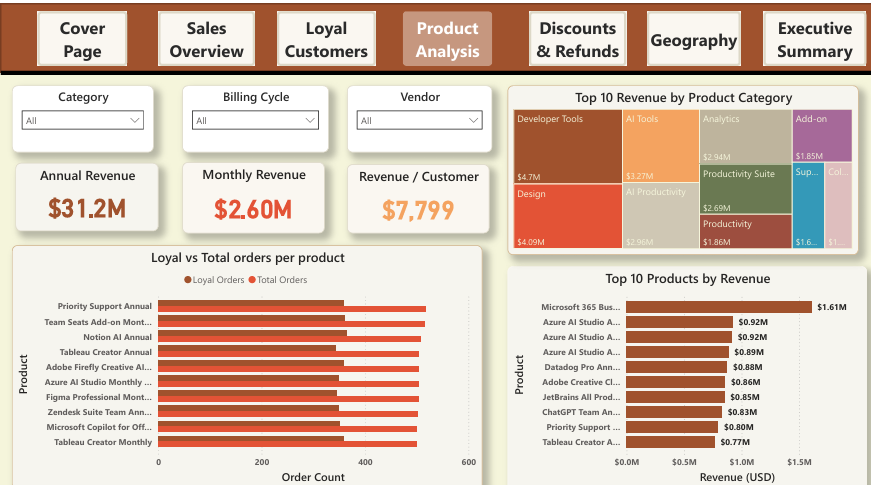

The dashboard page shown, as its layout file describes it:
{"tool":"powerbi","page":{"name":"Product Analysis","canvas":[1280,720],"ordinal":3},"visuals":[{"type":"shape","box":[0,0,1280,98.6],"z":0},{"type":"actionButton","title":"Sales Overview","box":[52.9,11.4,128.6,77.1],"z":1000},{"type":"actionButton","title":"Sales Overview","box":[395.7,11.4,141.4,77.1],"z":2000},{"type":"actionButton","title":"Sales Overview","box":[225.7,11.4,138.6,77.1],"z":3000},{"type":"actionButton","title":"Sales Overview","box":[757.1,11.4,138.6,77.1],"z":4000},{"type":"actionButton","title":"Sales Overview","box":[925.7,11.4,134.3,77.1],"z":5000},{"type":"actionButton","title":"Sales Overview","box":[1092.9,11.4,147.1,77.1],"z":6000},{"type":"actionButton","title":"Sales Overview","box":[575.7,11.4,128.6,77.1],"z":7000},{"type":"shape","box":[0,81.4,1280,35.7],"z":8000},{"type":"slicer","title":"Category","fields":{"Values":["Products.category"]},"box":[15.7,117.1,202.9,95.7],"z":9000},{"type":"slicer","title":"Billing Cycle","fields":{"Values":["Products.billing_cycle"]},"box":[260,117.1,210,95.7],"z":10000},{"type":"slicer","title":"Vendor","fields":{"Values":["Products.brand_safe_name"]},"box":[495.7,117.1,208.6,95.7],"z":11000},{"type":"card","title":"Annual Revenue","fields":{"Values":["_Measures.Total Revenue"]},"box":[21.2,227.5,205,98.8],"z":12000},{"type":"card","title":"Monthly Revenue","fields":{"Values":["_Measures.Monthly Revenue"]},"box":[260,227.1,204.3,101.4],"z":13000},{"type":"card","title":"Revenue / Customer","fields":{"Values":["_Measures.Revenue per Customer Ratio"]},"box":[495.7,230,204.3,98.6],"z":14000},{"type":"clusteredBarChart","title":"Top 10 Products by Revenue","fields":{"Category":["Products.product_name"],"Y":["_Measures.Total Revenue"]},"box":[725.7,375.7,515.7,321.4],"z":15000},{"type":"treemap","title":"Top 10 Revenue by Product Category","fields":{"Group":["Products.category"],"Values":["_Measures.Total Revenue"]},"box":[725.7,117.1,502.9,242.9],"z":16000},{"type":"clusteredBarChart","title":"Loyal vs Total orders per product","fields":{"Category":["Products.product_name"],"Y":["_Measures.Loyal Product Orders","_Measures.Transactions"]},"box":[15.7,345.7,674.3,351.4],"z":17000}]}

Visuals, with their boxes in screenshot pixels (x1, y1, x2, y2), scaled from the page's 1280x720 canvas onto the 871x485 screenshot:
shape: 0 0 870 66
"Sales Overview" actionButton: 36 8 124 60
"Sales Overview" actionButton: 269 8 365 60
"Sales Overview" actionButton: 154 8 248 60
"Sales Overview" actionButton: 515 8 609 60
"Sales Overview" actionButton: 630 8 721 60
"Sales Overview" actionButton: 744 8 844 60
"Sales Overview" actionButton: 392 8 479 60
shape: 0 55 870 79
"Category" slicer: 11 79 149 143
"Billing Cycle" slicer: 177 79 320 143
"Vendor" slicer: 337 79 479 143
"Annual Revenue" card: 14 153 154 220
"Monthly Revenue" card: 177 153 316 221
"Revenue / Customer" card: 337 155 476 221
"Top 10 Products by Revenue" clusteredBarChart: 494 253 845 470
"Top 10 Revenue by Product Category" treemap: 494 79 836 243
"Loyal vs Total orders per product" clusteredBarChart: 11 233 470 470
